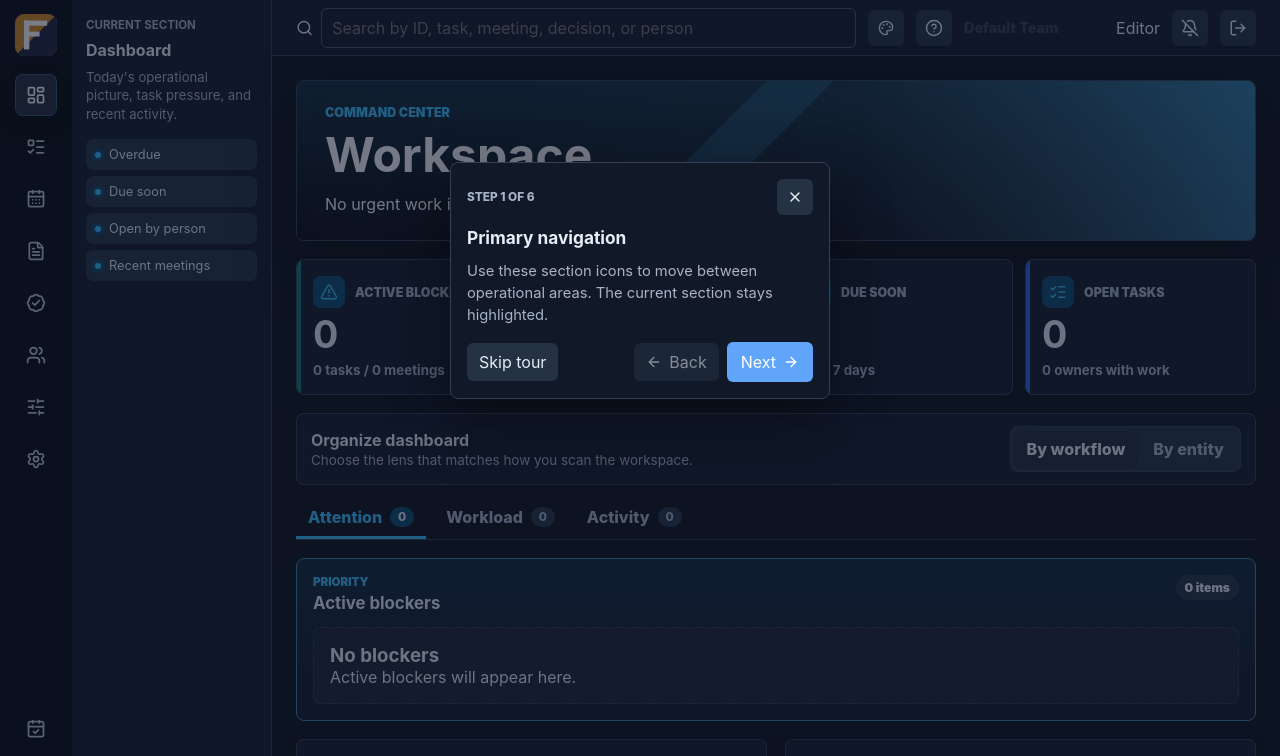
Test: admin page › shows the last-admin error from role changes
Click the button named "Admin". click: (36, 459)
box: x1=15 y1=438 x2=57 y2=480
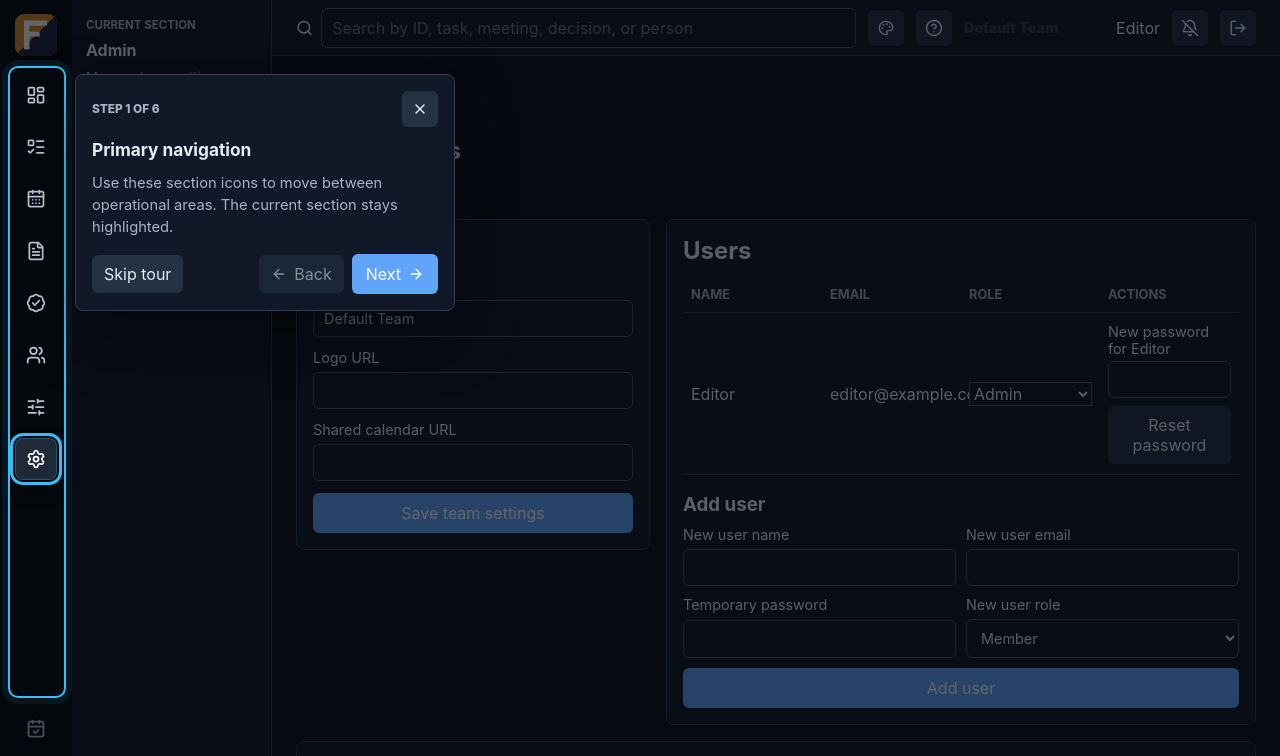
Select "Member" in the dropdown named "Role for Editor". click: (1030, 394)
box: x1=969 y1=382 x2=1092 y2=406
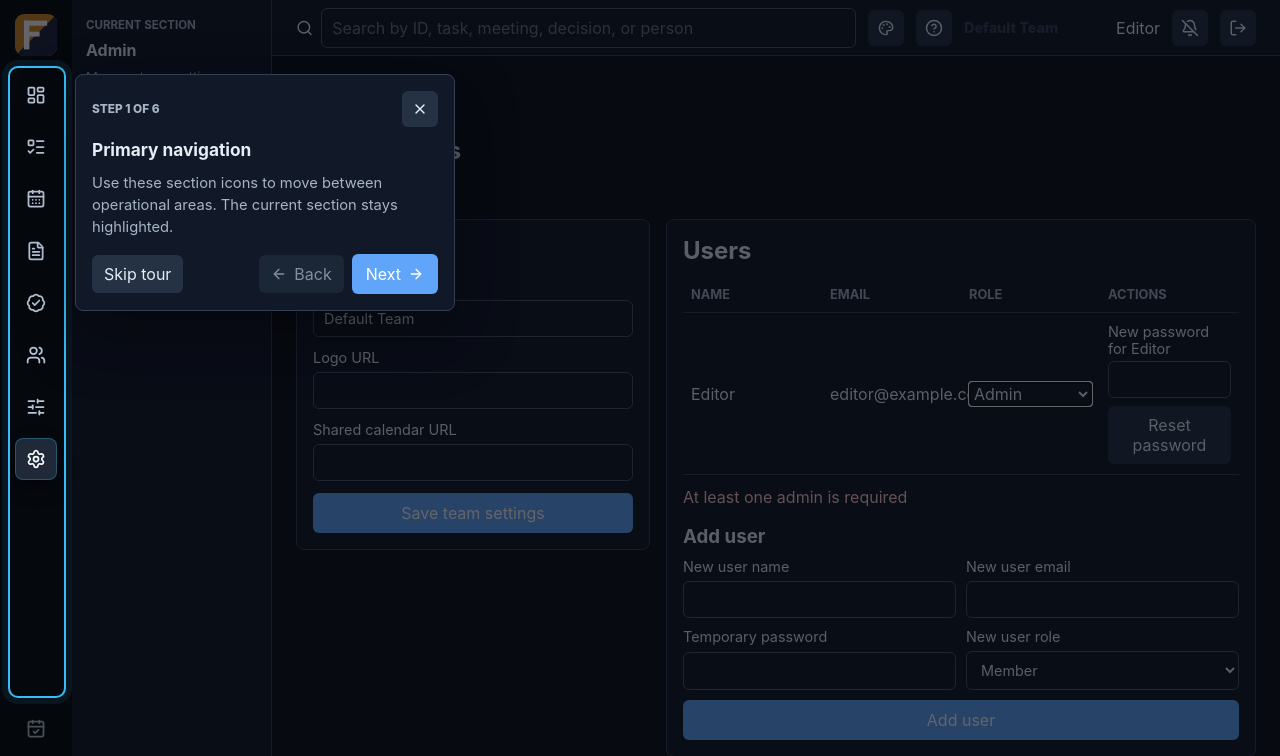
Expected: the text "At least one admin is required" is shown, x1=683 y1=487 x2=907 y2=507
